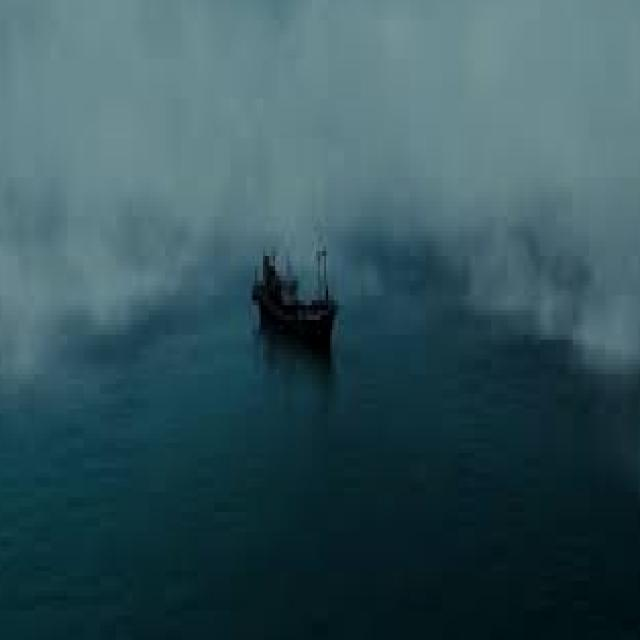fishing boat: (253, 219, 339, 347)
